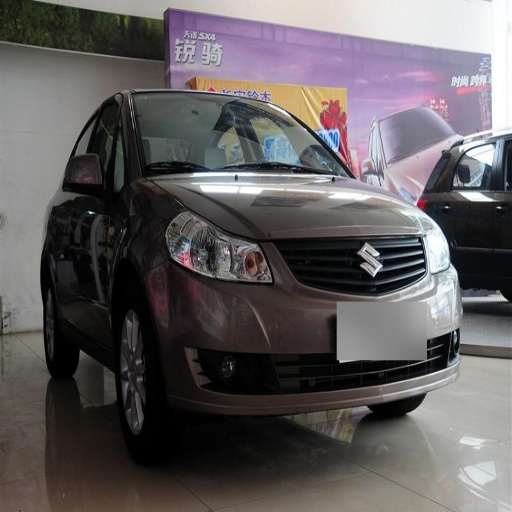front_bumper: (150, 234, 460, 416)
front_glass: (135, 96, 345, 175)
front_right_door: (62, 99, 131, 338)
front_right_light: (166, 210, 273, 283)
